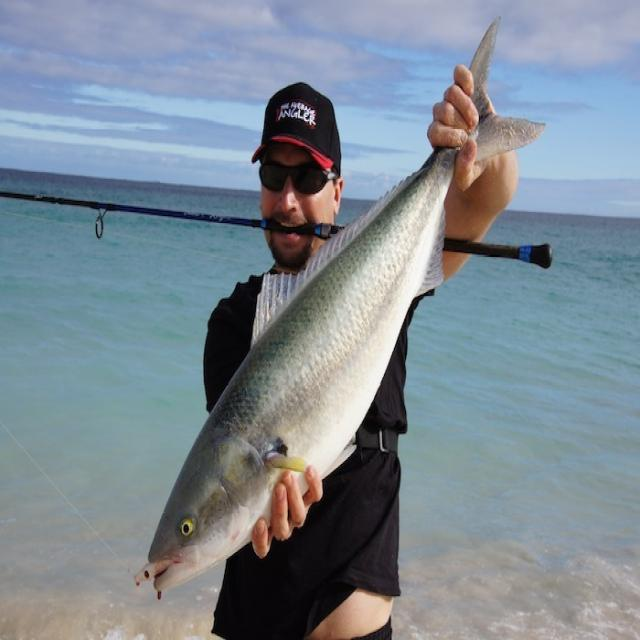Australian Salmon: (148, 7, 546, 611)
